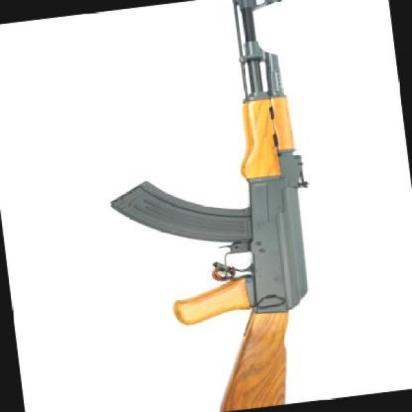Gun: (102, 0, 356, 412)
